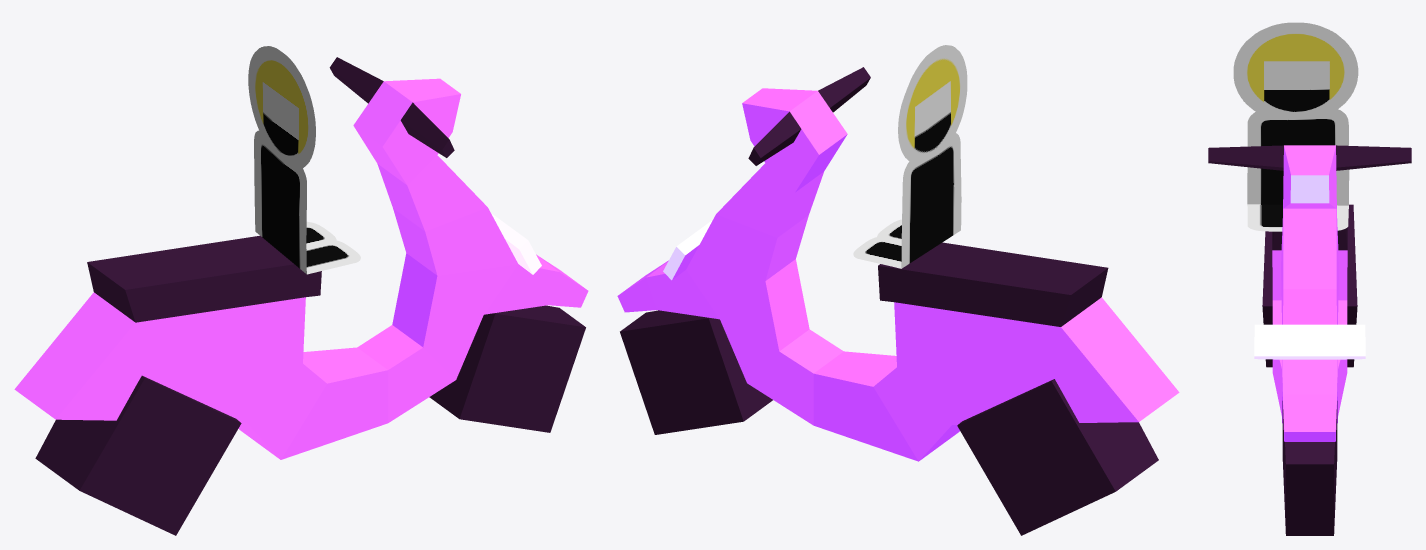
Rendered from Motor_NoSpion_Plat_Helmet.fbx.
3 renders of one model, left to right at view 1: azimuth 30°, elevation 25°; view 2: azimuth 150°, elevation 25°; view 3: azimuth 270°, elevation 25°, orthographic. The views are drawn at different scales.
Visible parts, largest first — view 1: Motor_NoSpion_Plat_Helmet, Sprite People.007; view 2: Motor_NoSpion_Plat_Helmet, Sprite People.007; view 3: Motor_NoSpion_Plat_Helmet, Sprite People.007.
Part boxes in pixels (x1=…): Motor_NoSpion_Plat_Helmet: x1=14, y1=57, x2=588, y2=535; Sprite People.007: x1=248, y1=46, x2=360, y2=274; Motor_NoSpion_Plat_Helmet: x1=617, y1=67, x2=1179, y2=535; Sprite People.007: x1=853, y1=45, x2=967, y2=268; Motor_NoSpion_Plat_Helmet: x1=1208, y1=145, x2=1411, y2=535; Sprite People.007: x1=1233, y1=22, x2=1358, y2=231.
Bounding box in the file's own units: 262 × 210 × 95.02.
